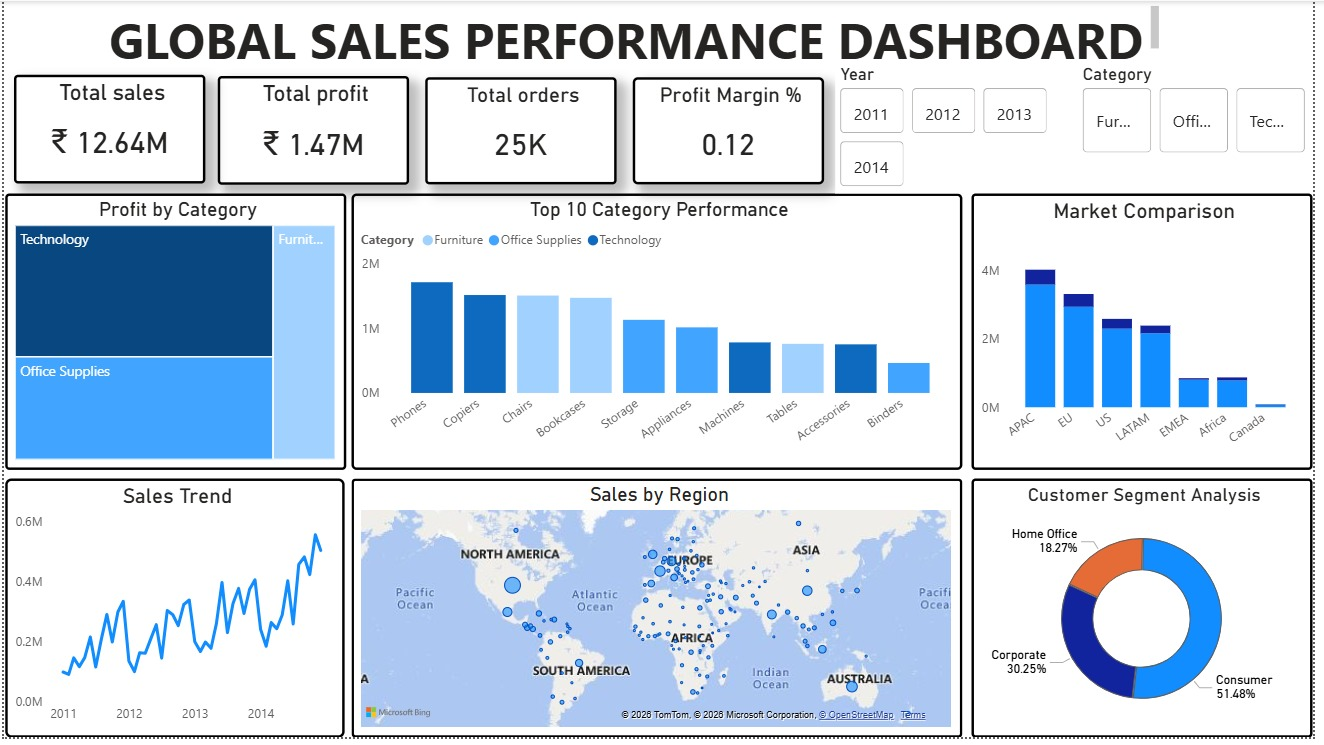

Layout of this report page (visuals, bound fields, positions):
{"tool":"powerbi","page":{"name":"Page 1","canvas":[1280,720],"ordinal":0},"visuals":[{"type":"lineChart","title":"Sales Trend","fields":{"Category":["Orders.Order Date.Variation.Date Hierarchy.Year","Orders.Order Date.Variation.Date Hierarchy.Month"],"Y":["Sum(Orders.Sales)"]},"box":[1.3,466.7,332.1,253.8],"z":0},{"type":"donutChart","title":"Customer Segment Analysis","fields":{"Category":["Orders.Segment"],"Y":["Sum(Orders.Sales)"]},"box":[946.2,466.7,333.3,253.8],"z":1000},{"type":"columnChart","title":"Top 10 Category Performance","fields":{"Category":["Orders.Sub-Category"],"Series":["Orders.Category"],"Y":["Sum(Orders.Sales)"]},"box":[339.7,188.5,597.4,270.5],"z":2000},{"type":"card","title":"Total profit","fields":{"Values":["Orders.Total Profit"]},"box":[209,73.1,187.2,106.4],"z":3000},{"type":"card","title":"Total orders","fields":{"Values":["Orders.Total Orders"]},"box":[411.5,74.4,187.2,105.1],"z":4000},{"type":"card","title":"Total sales","fields":{"Values":["Orders.Total Sales"]},"box":[10.3,71.8,187.2,106.4],"z":5000},{"type":"card","title":"Profit Margin %","fields":{"Values":["Orders.Profit Margin %"]},"box":[615.4,74.4,187.2,105.1],"z":6000},{"type":"map","title":"Sales by Region","fields":{"Category":["Orders.Country"],"Size":["Sum(Orders.Sales)"]},"box":[339.7,466.7,597.4,253.8],"z":7000},{"type":"advancedSlicerVisual","fields":{"Values":["Orders.Order Date.Variation.Date Hierarchy.Year"]},"box":[812.8,61.5,214.1,126.9],"z":8000},{"type":"textbox","box":[97.4,0,1037.2,61.5],"z":9000},{"type":"treemap","title":"Profit by Category","fields":{"Group":["Orders.Category"],"Values":["Sum(Orders.Profit)"]},"box":[1.3,188.5,333.3,270.5],"z":10000},{"type":"columnChart","title":"Market Comparison","fields":{"Category":["Orders.Market"],"Y":["Sum(Orders.Sales)","Sum(Orders.Profit)"]},"box":[946.2,188.5,333.3,270.5],"z":11000},{"type":"advancedSlicerVisual","fields":{"Values":["Orders.Category"]},"box":[1050,61.5,229.5,92.3],"z":12000}]}

Visuals, with their boxes in screenshot pixels (x1, y1, x2, y2), scaled from the page's 1280x720 canvas onto the 1324x745 screenshot:
"Sales Trend" lineChart: <region>1, 483, 345, 744</region>
"Customer Segment Analysis" donutChart: <region>979, 483, 1323, 744</region>
"Top 10 Category Performance" columnChart: <region>351, 195, 969, 475</region>
"Total profit" card: <region>216, 76, 410, 186</region>
"Total orders" card: <region>426, 77, 619, 186</region>
"Total sales" card: <region>11, 74, 204, 184</region>
"Profit Margin %" card: <region>637, 77, 830, 186</region>
"Sales by Region" map: <region>351, 483, 969, 744</region>
advancedSlicerVisual - Orders.Order Date.Variation.Date Hierarchy.Year: <region>841, 64, 1062, 195</region>
textbox: <region>101, 0, 1174, 64</region>
"Profit by Category" treemap: <region>1, 195, 346, 475</region>
"Market Comparison" columnChart: <region>979, 195, 1323, 475</region>
advancedSlicerVisual - Orders.Category: <region>1086, 64, 1323, 159</region>
